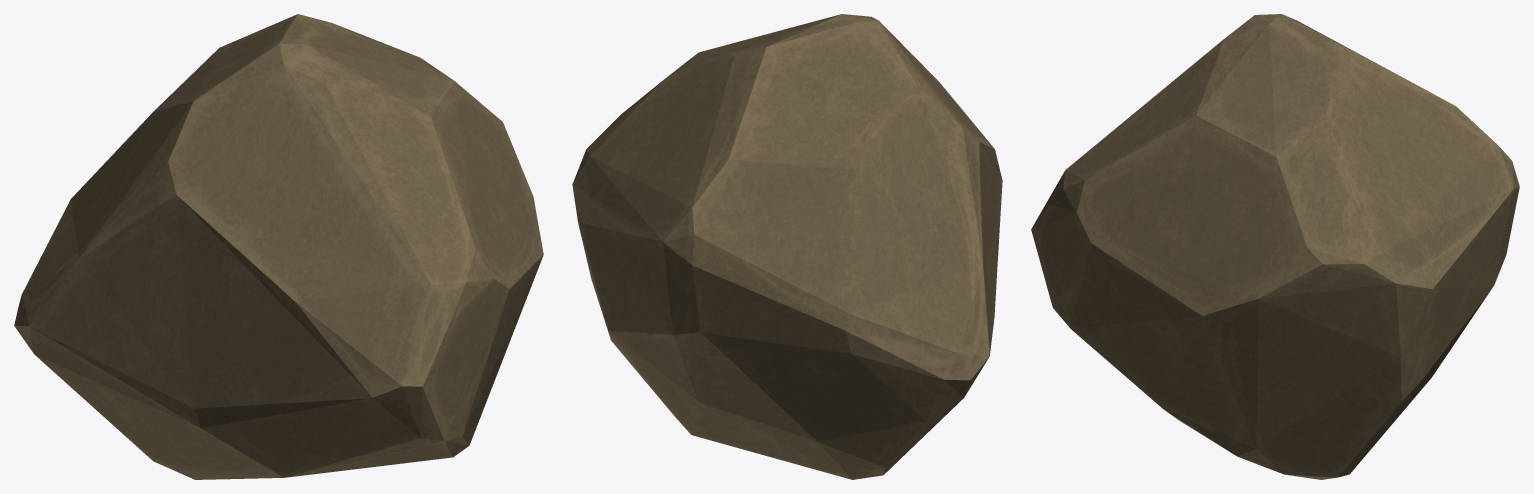
File: ARC0510113.fbx
The picture shows the model from 3 angles, left to right: view 1: azimuth 30°, elevation 25°; view 2: azimuth 150°, elevation 25°; view 3: azimuth 270°, elevation 25°; orthographic projection. The views are drawn at different scales.
Visible parts, largest first — view 1: smARC0510113; view 2: smARC0510113; view 3: smARC0510113.
Boxes of the visible parts, x1=… form: smARC0510113: x1=14, y1=14, x2=543, y2=479; smARC0510113: x1=572, y1=14, x2=1002, y2=479; smARC0510113: x1=1031, y1=14, x2=1519, y2=479.
Size of the model in its own units: 549 by 543 by 589.
Materials: 1 (1 with a texture image).
